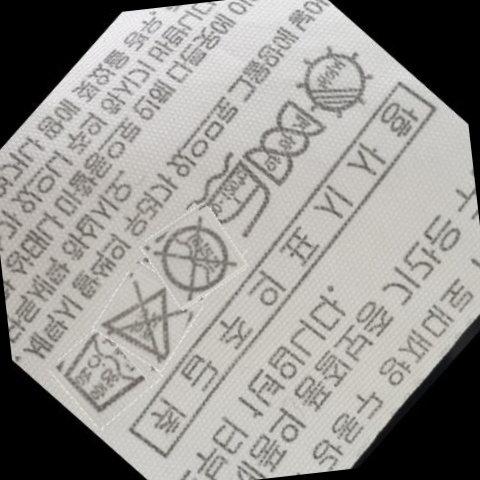DN_dry_clean: (154, 220, 232, 299)
dry_flat_in_shade: (292, 47, 370, 121)
hand_wash: (59, 332, 139, 422)
iron_low: (197, 158, 276, 242)
non_chlorine_bleach: (100, 282, 181, 362)
wring: (237, 96, 321, 186)
